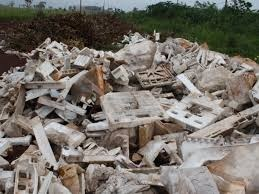rubble: (1, 47, 257, 193)
